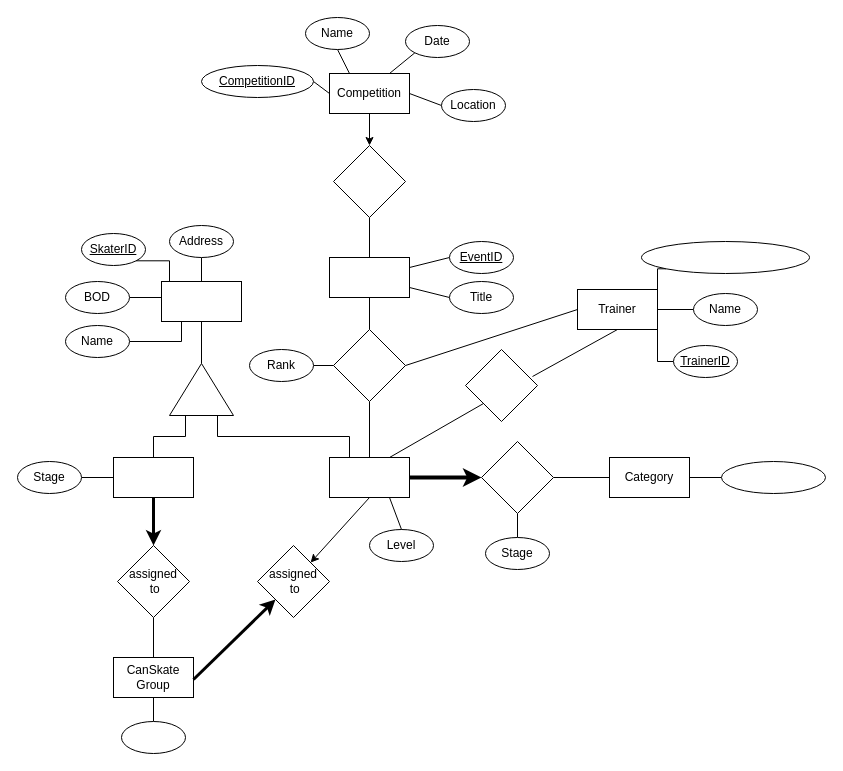
Some shapes in this 843 by 771 pixel diagram are drawn without their labels. The centre of each missing label's shape, as x and y in pixels:
belongs to: (517,477)
CanSkate: (153,477)
CategoryName: (773,477)
Event: (369,277)
GroupID: (153,737)
Includes: (369,181)
MaximumTrainableLevel: (725,257)
Participates: (369,365)
Skater: (201,301)
StarSkate: (369,477)
Trains: (501,385)
